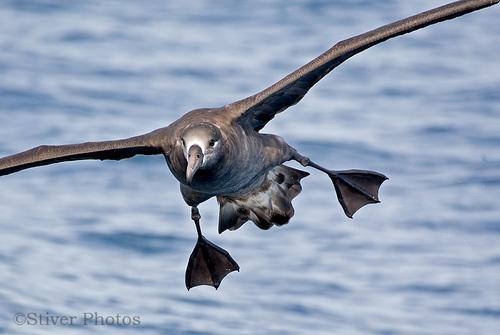001.Black_footed_Albatross: (1, 2, 499, 293)
